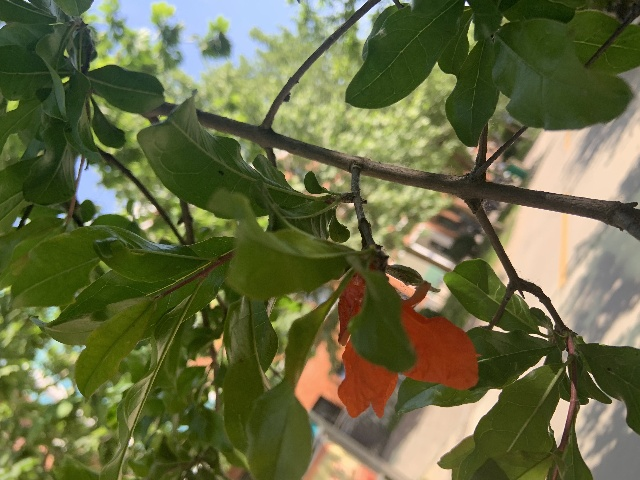flower: (337, 266, 480, 419)
